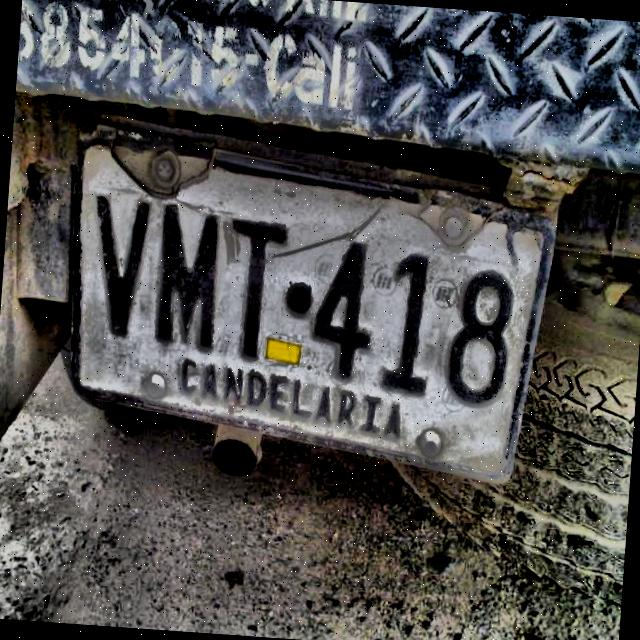1: (373, 246, 449, 402)
4: (305, 236, 385, 386)
8: (437, 259, 528, 416)
M: (153, 201, 227, 355)
T: (229, 215, 297, 363)
V: (90, 189, 160, 342)
